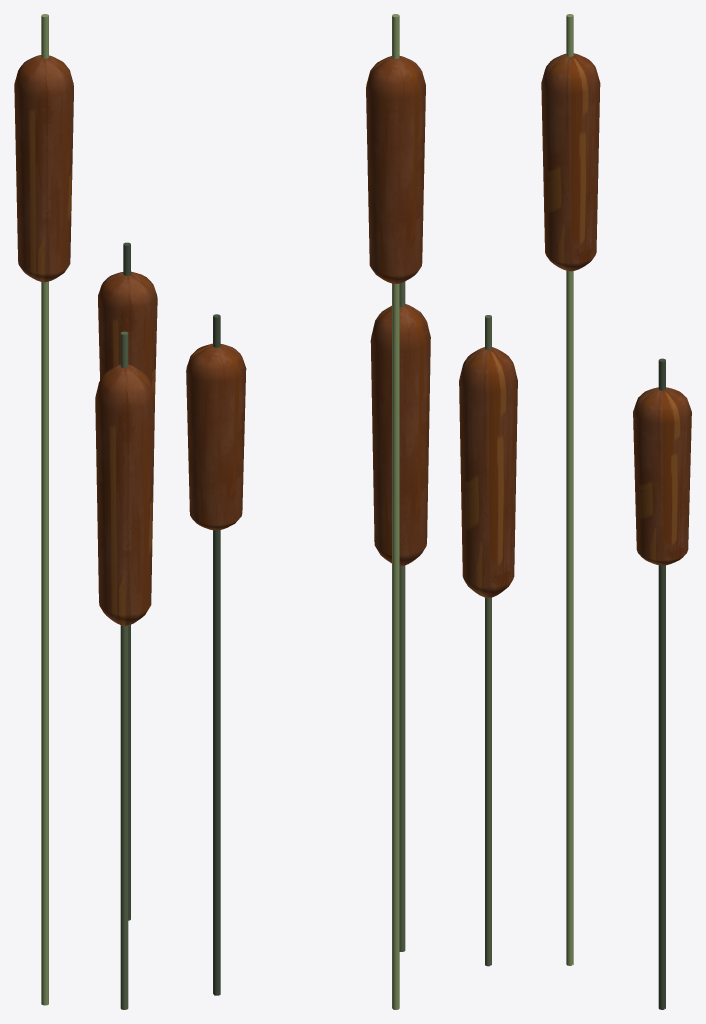
The model's file is Cat Grass.fbx.
The picture shows the model from 3 angles, left to right: view 1: azimuth 30°, elevation 25°; view 2: azimuth 150°, elevation 25°; view 3: azimuth 270°, elevation 25°; orthographic projection. The views are drawn at different scales.
Visible parts, largest first — view 1: Brown_M2; view 2: Brown_M2; view 3: Brown_M2.
Part boxes in pixels (x1=…): Brown_M2: x1=14, y1=14, x2=157, y2=1009; Brown_M2: x1=186, y1=14, x2=430, y2=1009; Brown_M2: x1=459, y1=14, x2=691, y2=1009.
Bounding box in the file's own units: 17.56 × 90.63 × 20.16.
